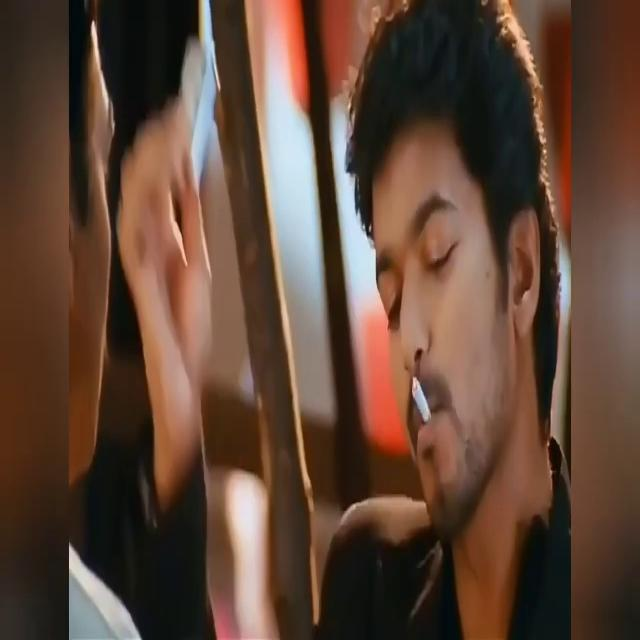smoking: (414, 329, 430, 476)
